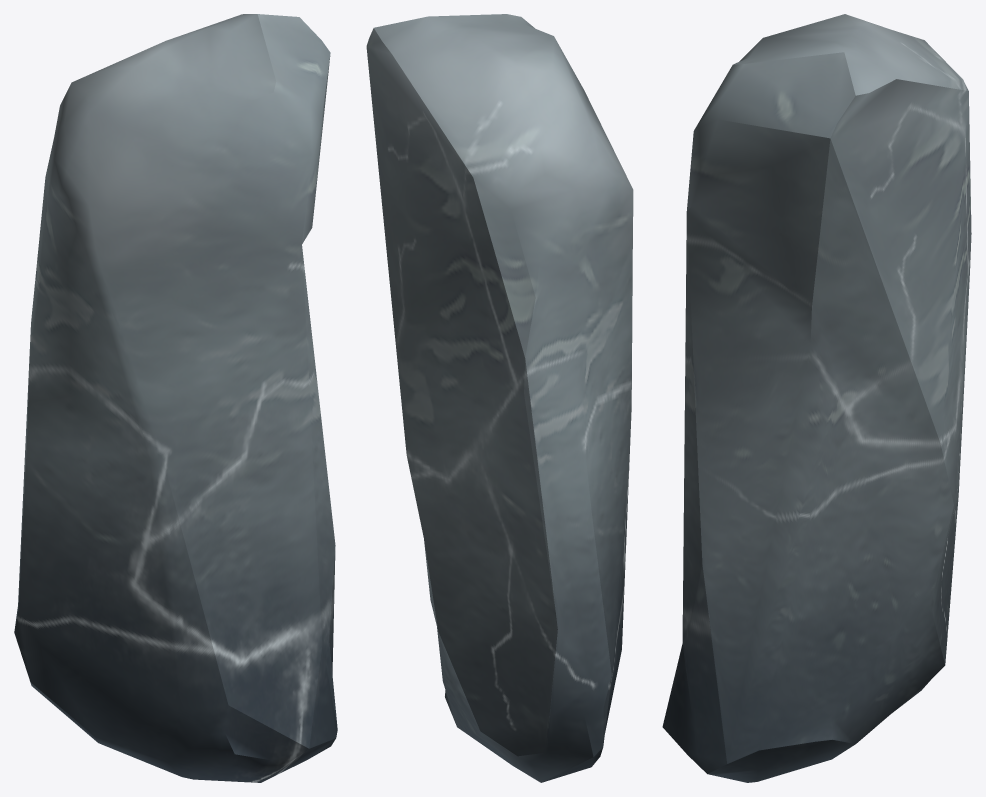
The model's file is t_skala_6.obj.
The picture shows the model from 3 angles, left to right: view 1: azimuth 30°, elevation 25°; view 2: azimuth 150°, elevation 25°; view 3: azimuth 270°, elevation 25°; orthographic projection. The views are drawn at different scales.
Parts seen in each view (by area): view 1: t_skala_6; view 2: t_skala_6; view 3: t_skala_6.
Part boxes in pixels (<box>): t_skala_6: <box>14,14,337,782</box>; t_skala_6: <box>366,14,633,782</box>; t_skala_6: <box>662,14,971,782</box>.
Bounding box in the file's own units: 7.5 × 18.81 × 6.98.
1 material, 1 textured.
